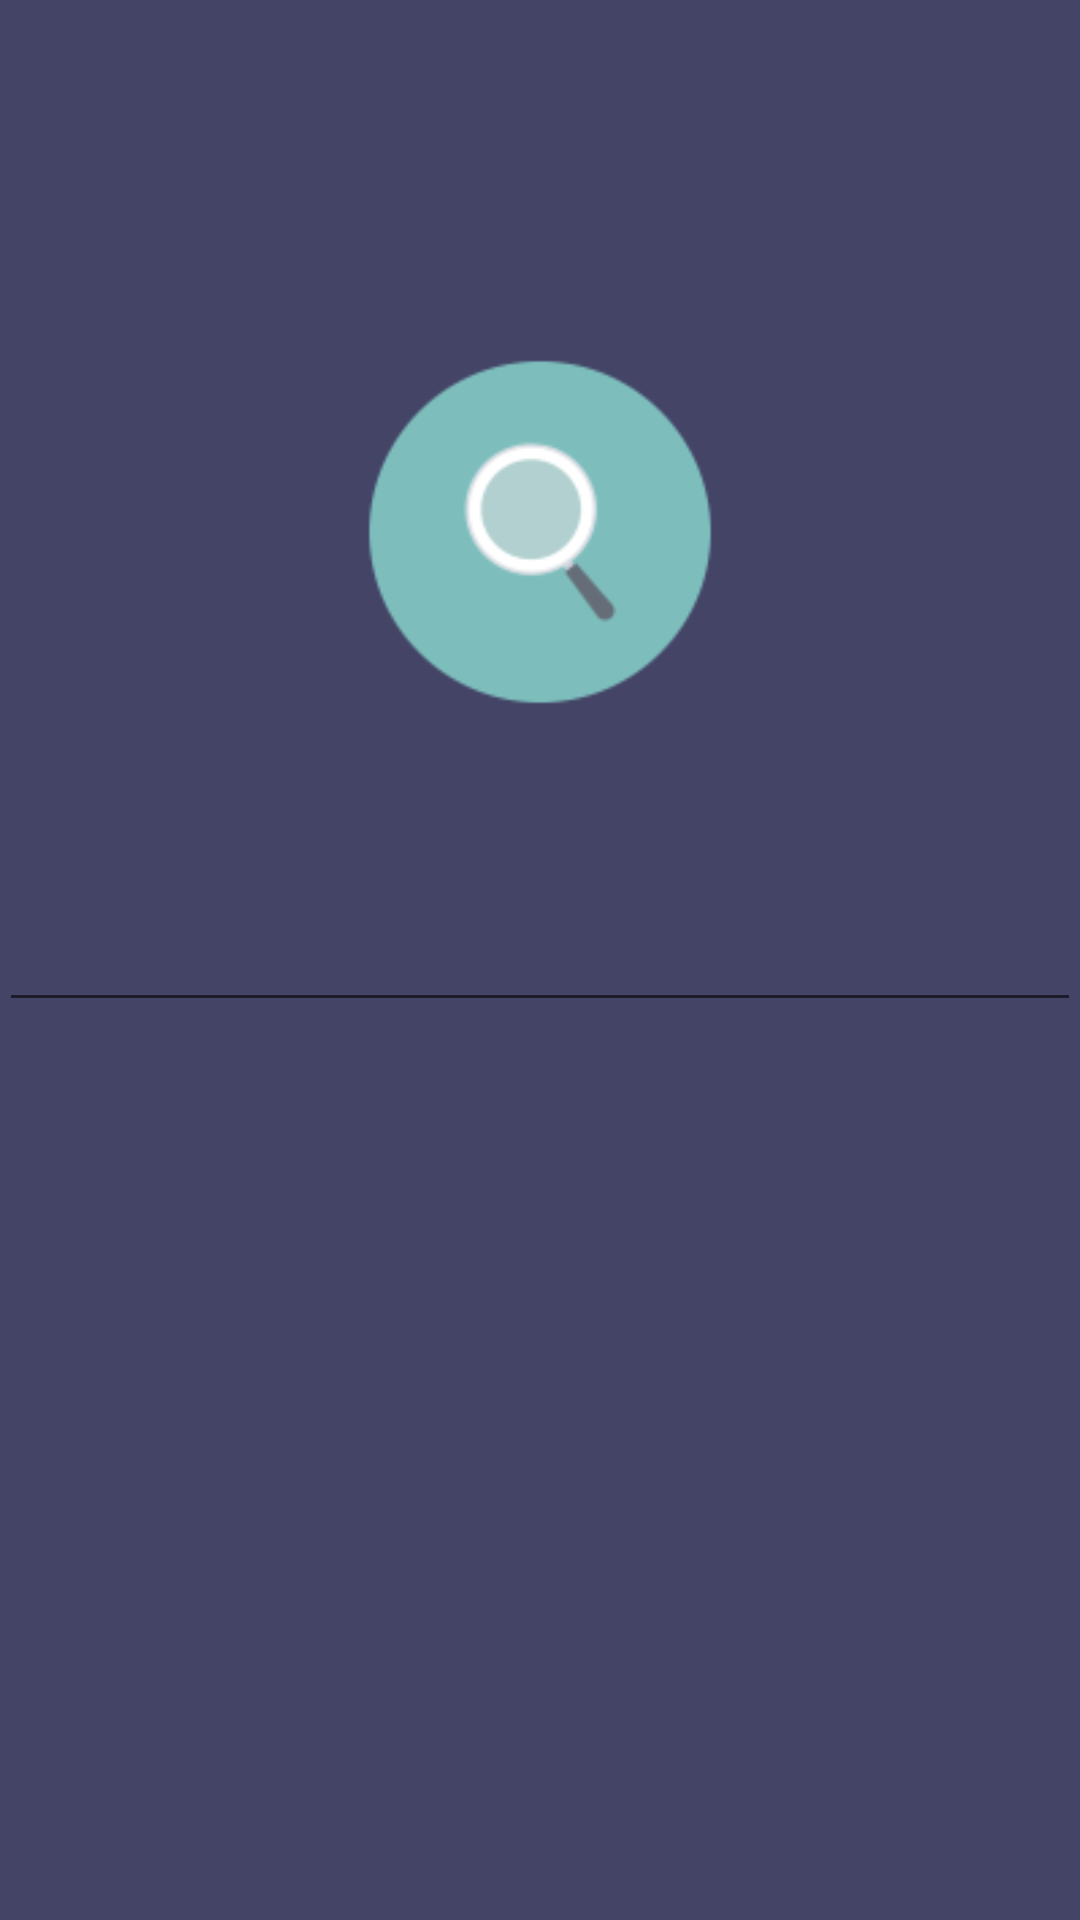

Screen size 1080 x 1920. Icon name, then its box in pixels as box=[x1, y1, x2, y2]:
search: box=[369, 361, 711, 703]
